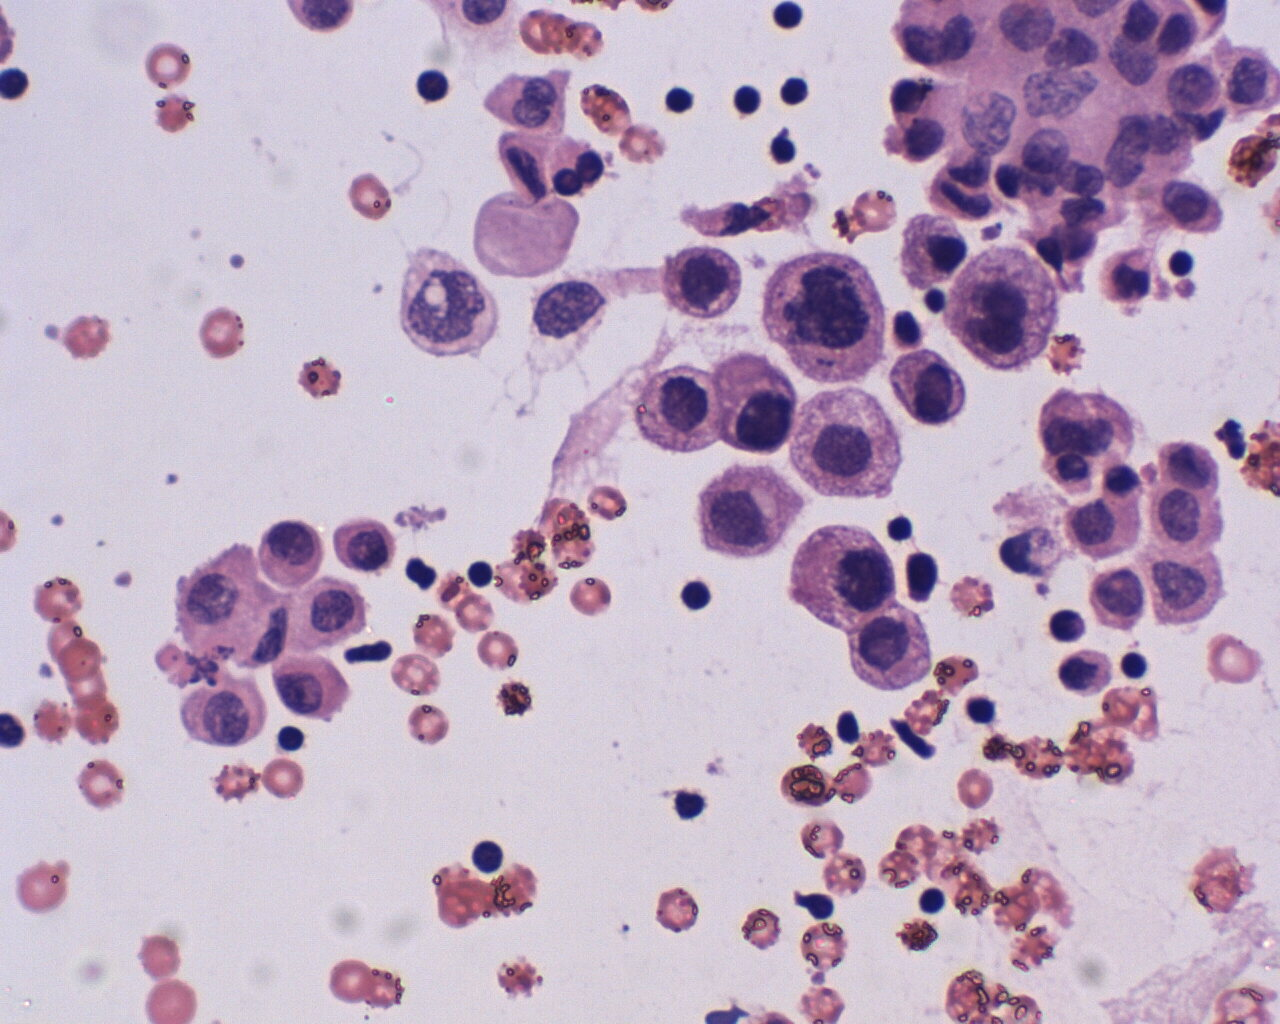ab: (935, 243, 1068, 375), (764, 254, 887, 387), (885, 344, 977, 430), (660, 234, 743, 327), (1085, 558, 1150, 636), (329, 515, 400, 576)
lymph: (463, 832, 508, 878), (408, 65, 453, 109), (757, 1, 810, 38), (659, 80, 701, 123), (678, 577, 718, 618), (773, 69, 811, 104)
meso: (784, 383, 905, 501), (785, 521, 897, 625), (709, 349, 798, 453), (845, 605, 936, 693), (635, 366, 720, 447), (286, 571, 368, 645), (1063, 492, 1144, 560), (1151, 480, 1228, 546)
